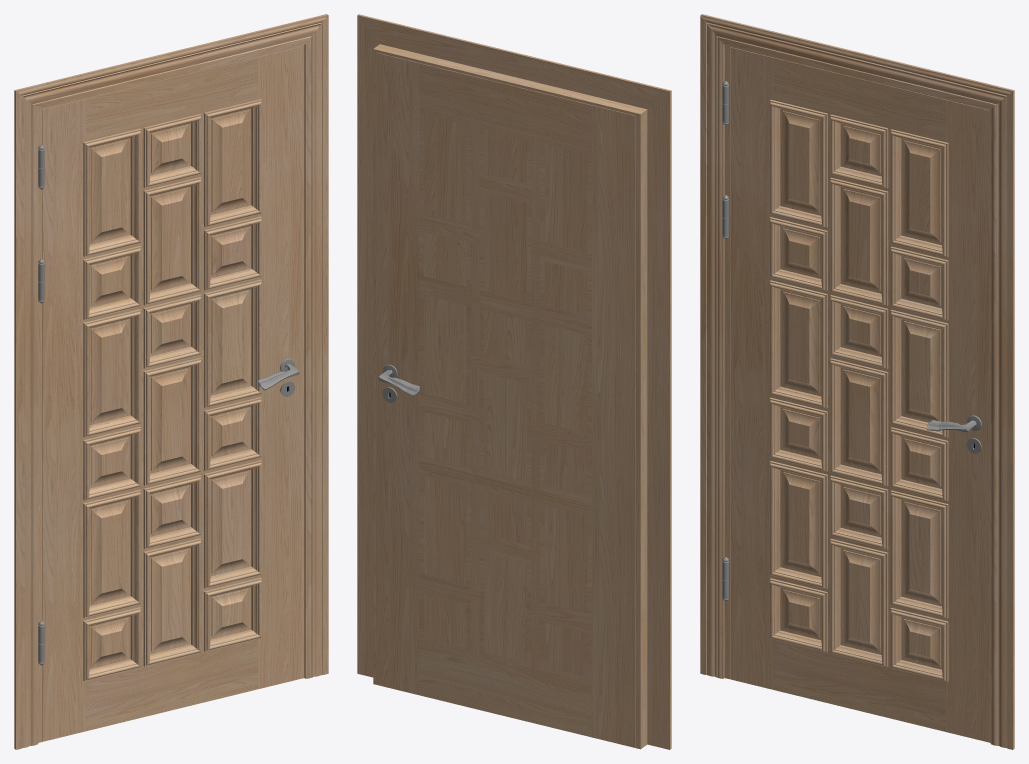
The model's file is door13.FBX.
The picture shows the model from 3 angles, left to right: view 1: azimuth 30°, elevation 25°; view 2: azimuth 150°, elevation 25°; view 3: azimuth 330°, elevation 25°; orthographic projection.
Visible parts, largest first — view 1: doors, frame; view 2: doors, frame; view 3: doors, frame.
Part boxes in pixels (x1,y1,x2,y2): doors: (38, 46, 301, 741); frame: (14, 14, 328, 749); doors: (376, 52, 635, 747); frame: (357, 14, 671, 749); doors: (722, 47, 989, 742); frame: (700, 14, 1014, 749).
Bounding box in the file's own units: 109 × 219 × 19.21.
